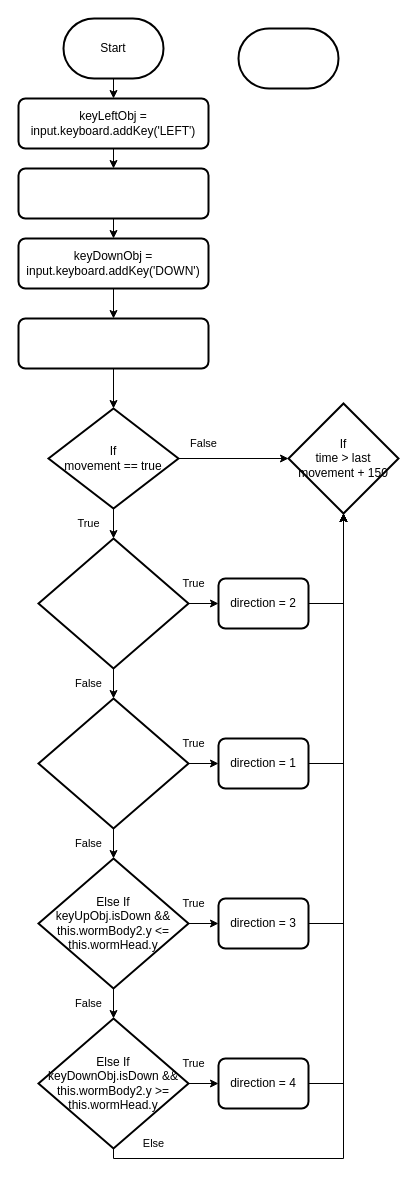
The diagram is 416 pixels wide and 1184 high, and some of its shapes have lost their labels. Each missing label, with the box of its shape:
Else If keyLeftObj.isDown && this.wormBody2.x >= this.wormHead.x: (37, 697, 189, 829)
If keyRightObj.isDown && this.wormBody2.x <= this.wormHead.x: (37, 537, 189, 669)
keyRightObj = input.keyboard.addKey('RIGHT'): (17, 167, 209, 219)
keyUpObj = input.keyboard.addKey('UP'): (17, 317, 209, 369)
Stop: (237, 27, 339, 89)
